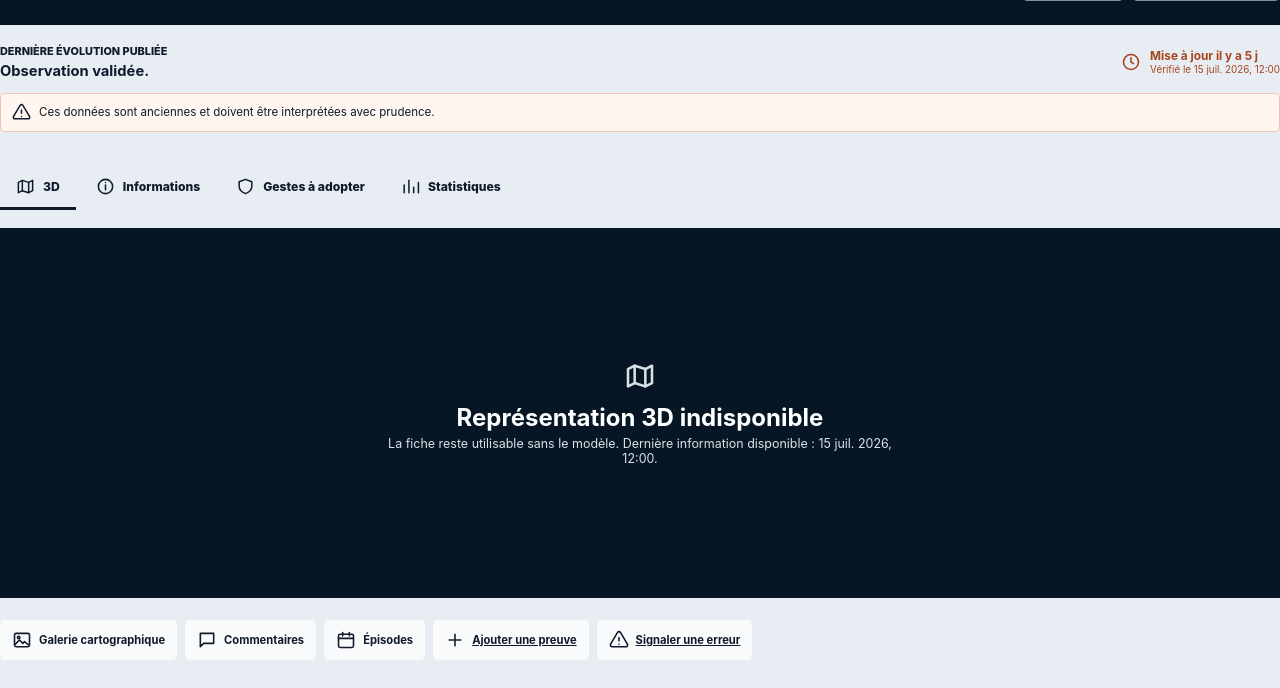
it: ouvre la galerie des captures 3D validées sans republier les médias utilisateur
(page scrolled)
Click the button "Galerie cartographique": (88, 640) 0,620 -> 177,660
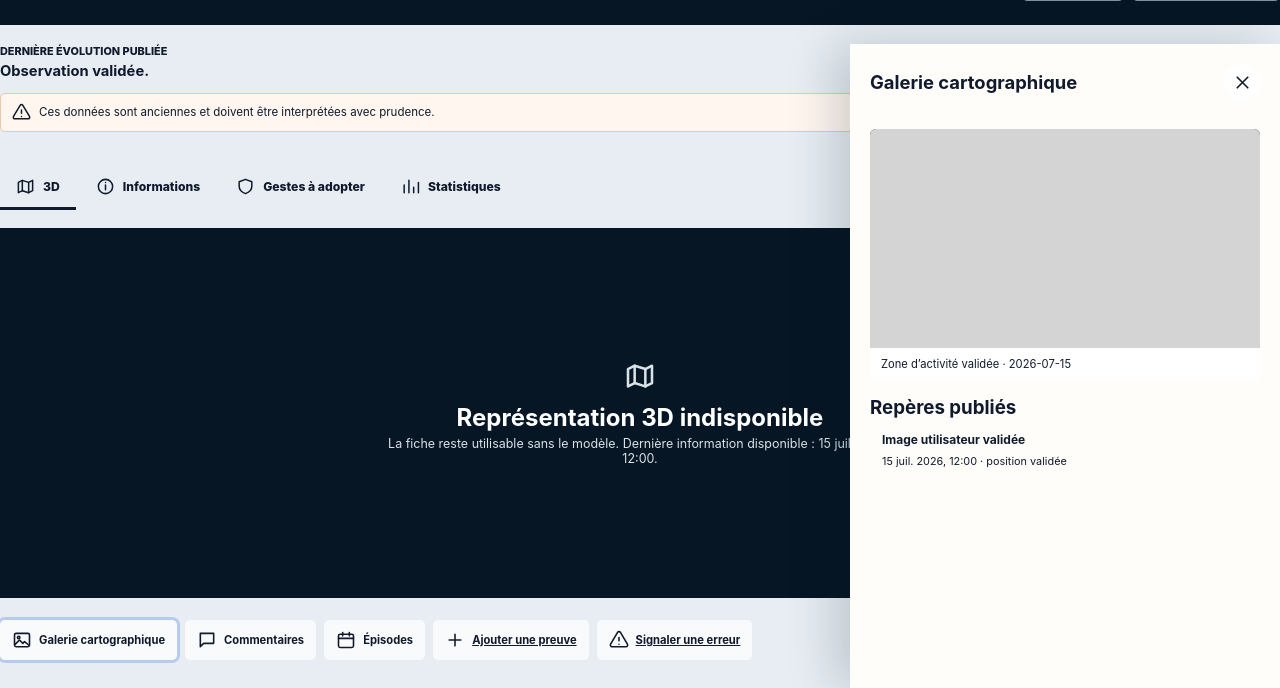
Check: the element "Galerie cartographique" shows "Zone d’activité validée", box 881,357 -> 1009,371
Check: the text "Image utilisateur validée" is shown, box 882,432 -> 1025,447
Click the button named "Fermer le panneau": (1242, 82) 1224,64 -> 1260,100
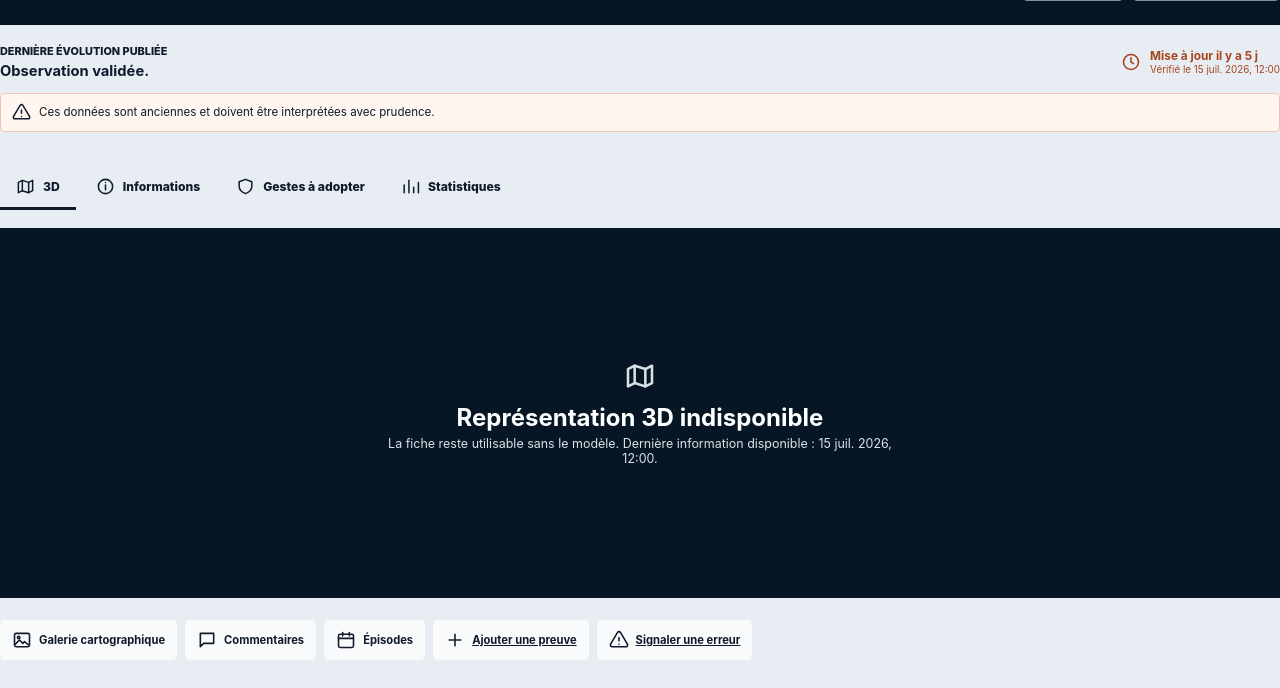
Click the button "Épisodes": (375, 640) 324,620 -> 425,660
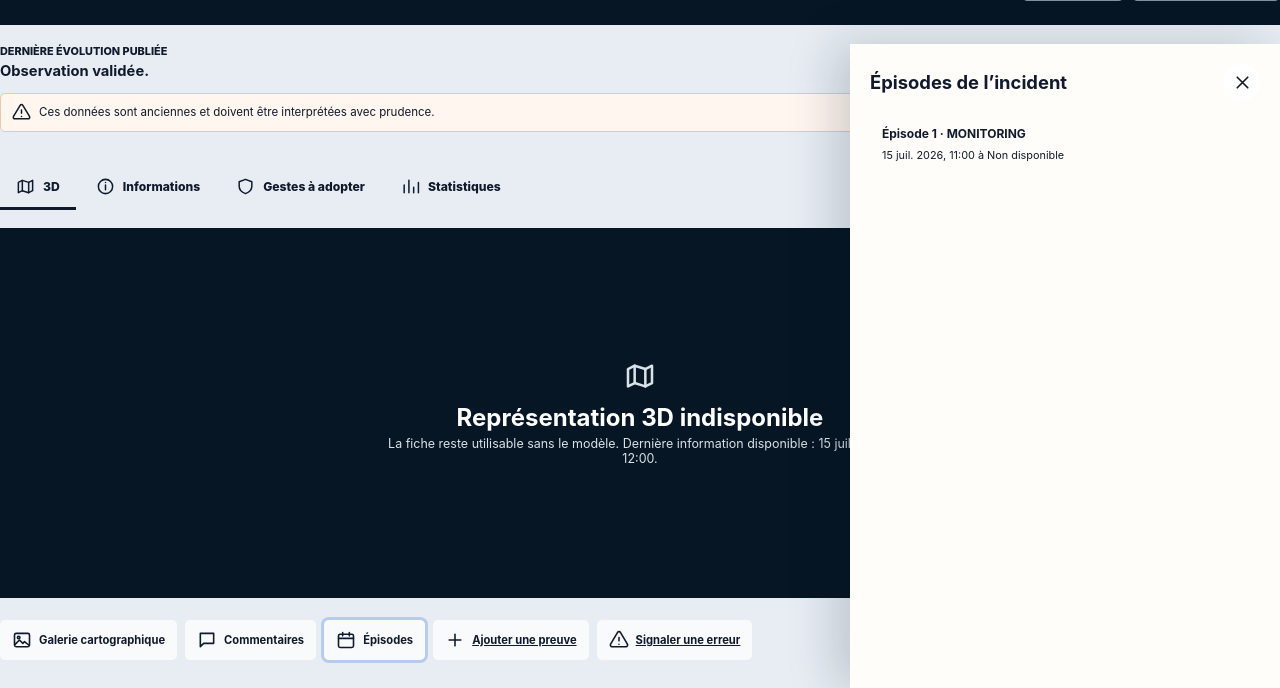
Check: the element "Épisodes de l’incident" shows "Épisode 1", box 850,44 -> 1279,687
